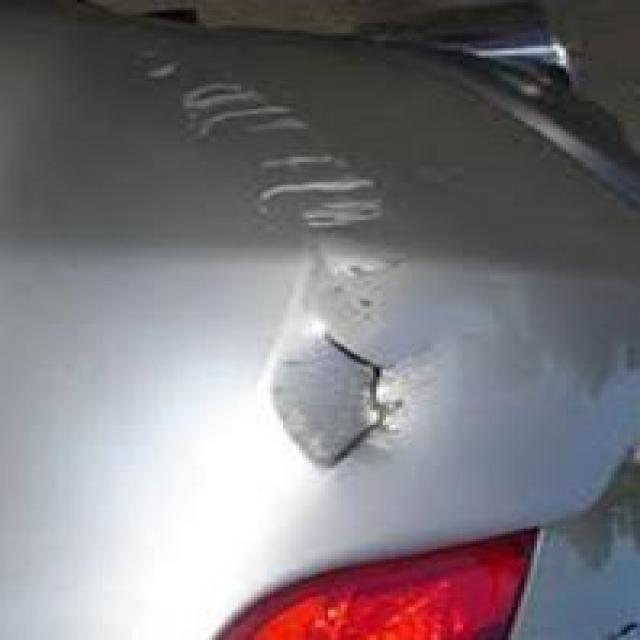scratch: (72, 38, 497, 306)
